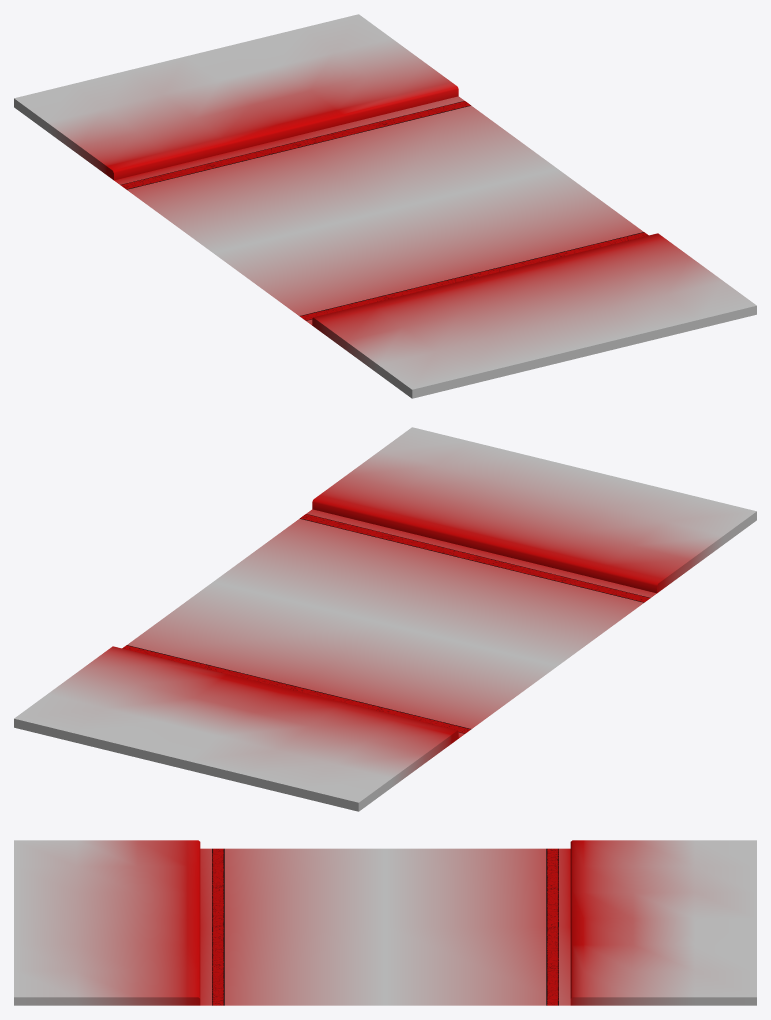
The model's file is Street_2Lane.gltf.
3 views of the same model, one above another, from view 1: azimuth 30°, elevation 25°; view 2: azimuth 150°, elevation 25°; view 3: azimuth 270°, elevation 25° (orthographic). The views are drawn at different scales.
Parts seen in each view (by area): view 1: Street_2Lane; view 2: Street_2Lane; view 3: Street_2Lane.
Boxes of the visible parts, box(x1,y1,x2,y2) form: Street_2Lane: box(14, 14, 756, 398); Street_2Lane: box(14, 427, 756, 811); Street_2Lane: box(14, 840, 756, 1005).
Size of what is drawn, in the model's own units: 6 by 0.15 by 12.
